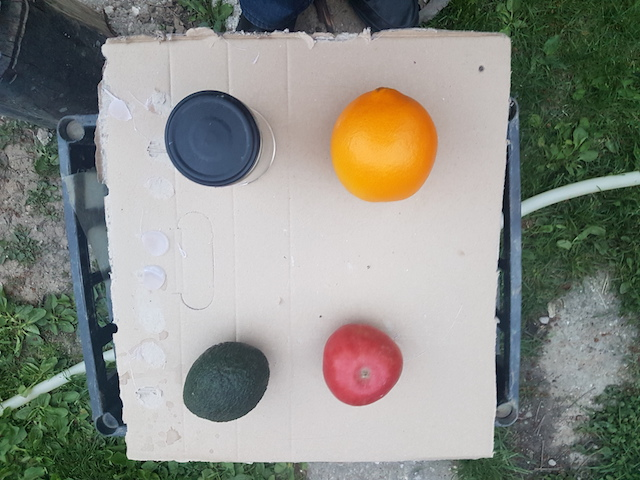apple: (316, 324, 404, 410)
avocado: (182, 342, 271, 429)
orange: (330, 85, 438, 207)
recipient: (165, 90, 262, 190)
